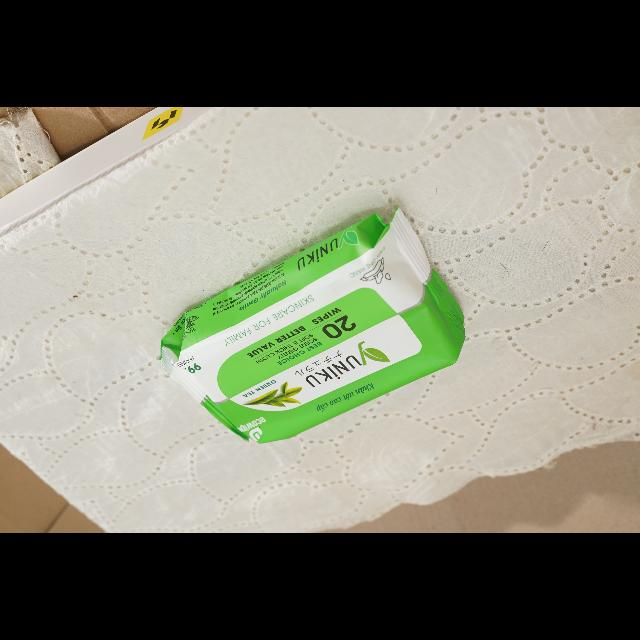khan_giay: (160, 207, 465, 443)
